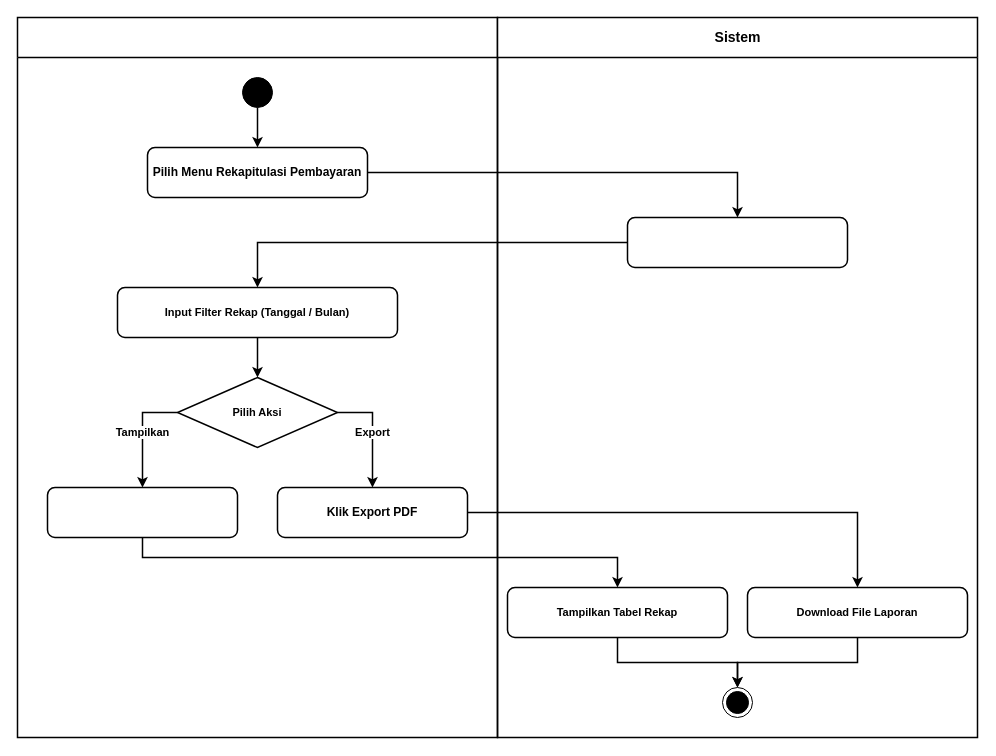
The diagram is 996 pixels wide and 756 high, and some of its shapes have lost their labels. Each missing label, with the box of its shape:
Admin Sekolah: (16, 16, 498, 738)
Klik Tampilkan Rekap: (46, 486, 238, 538)
Tampilkan Form Filter Rekap: (626, 216, 848, 268)
